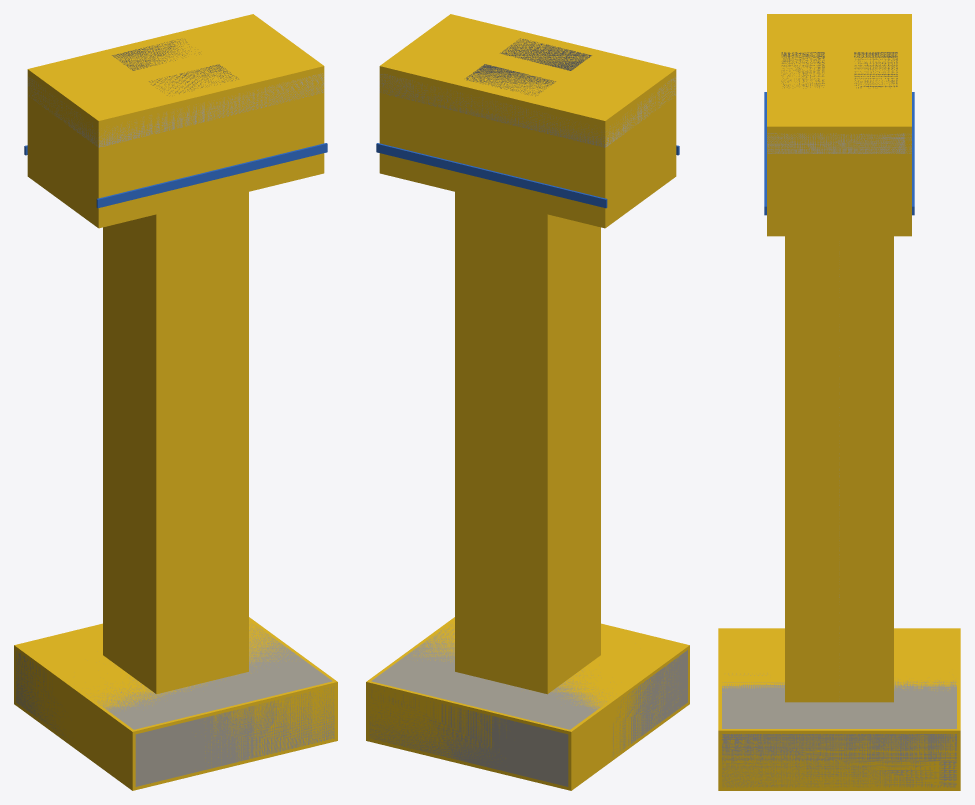
File: rail_pier.glb
The picture shows the model from 3 angles, left to right: view 1: azimuth 30°, elevation 25°; view 2: azimuth 150°, elevation 25°; view 3: azimuth 270°, elevation 25°; orthographic projection. The views are drawn at different scales.
Visible parts, largest first — view 1: rail_pier__col, rail_pier__shell; view 2: rail_pier__col, rail_pier__shell; view 3: rail_pier__col, rail_pier__shell.
Boxes of the visible parts, box(x1,y1,x2,y2) form: rail_pier__col: box(14, 14, 337, 790); rail_pier__shell: box(16, 39, 334, 786); rail_pier__col: box(366, 14, 689, 790); rail_pier__shell: box(369, 38, 687, 786); rail_pier__col: box(718, 14, 960, 790); rail_pier__shell: box(722, 52, 956, 787).
Size of the model in its own units: 2.24 by 6.1 by 2.
1 material, 1 textured.
